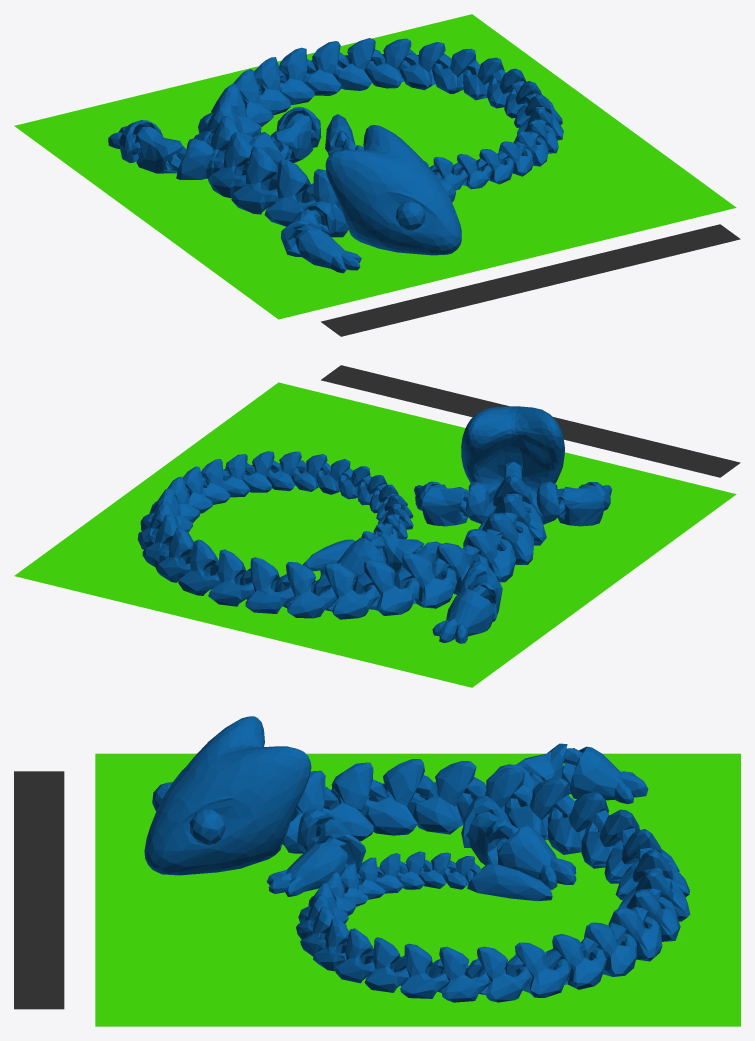
Rendered from BigGecko_X1.glb.
The picture shows the model from 3 angles, top to bottom: view 1: azimuth 30°, elevation 25°; view 2: azimuth 150°, elevation 25°; view 3: azimuth 270°, elevation 25°; orthographic projection. The views are drawn at different scales.
Parts seen in each view (by area): view 1: Plane, DRAGON_001, Plane.001; view 2: Plane, DRAGON_001, Plane.001; view 3: Plane, DRAGON_001, Plane.001.
Part boxes in pixels (x1,y1,x2,y2): Plane: (14, 14, 736, 319); DRAGON_001: (108, 38, 563, 273); Plane.001: (321, 224, 740, 336); Plane: (14, 382, 736, 687); DRAGON_001: (137, 406, 612, 643); Plane.001: (321, 365, 740, 477); Plane: (95, 753, 740, 1026); DRAGON_001: (144, 716, 690, 1002); Plane.001: (14, 771, 64, 1009).
Bounding box in the file's own units: 0.22 × 0.0424 × 0.2477.
